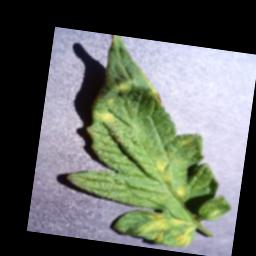Leaf_Mold: (135, 210, 199, 248), (148, 149, 194, 200)
